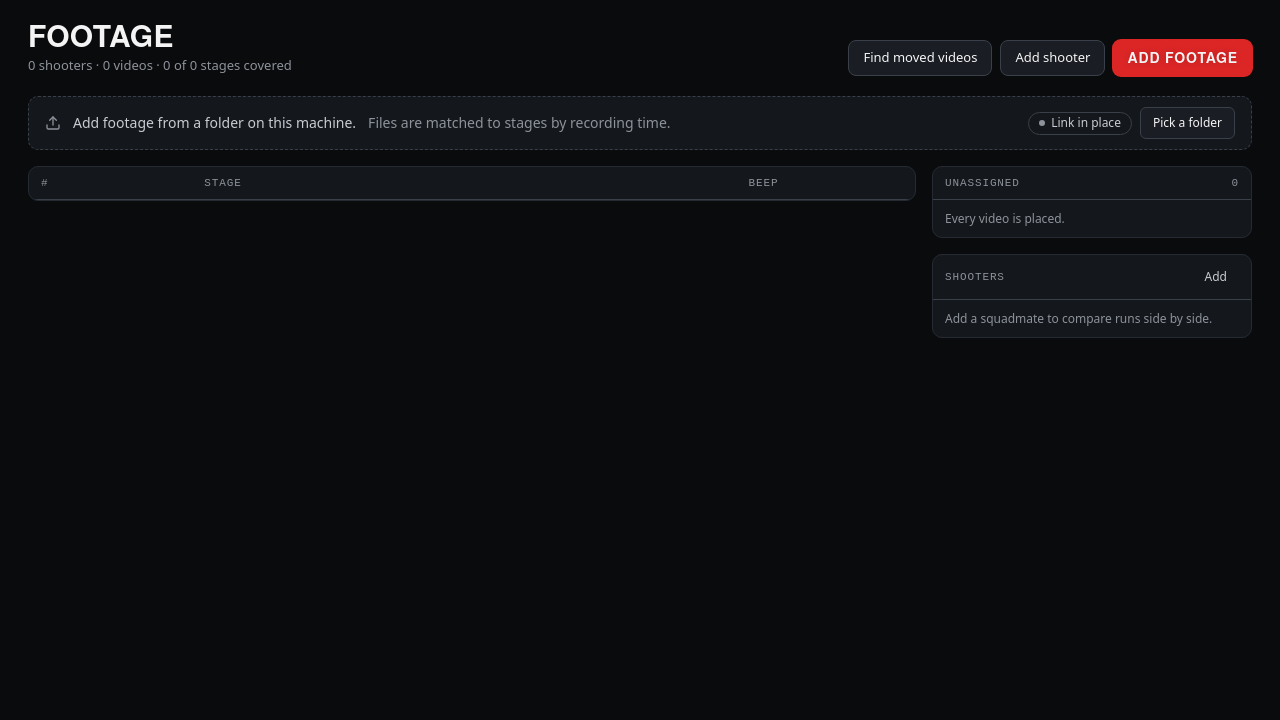
Ingest add-footage (local) › says why each file was skipped, in the picker when nothing imported (#1227)
The width and height of the screenshot is (1280, 720).
Step 1. Click the button "Pick a folder" → coordinates (1187, 122), box [1140,106,1235,138]
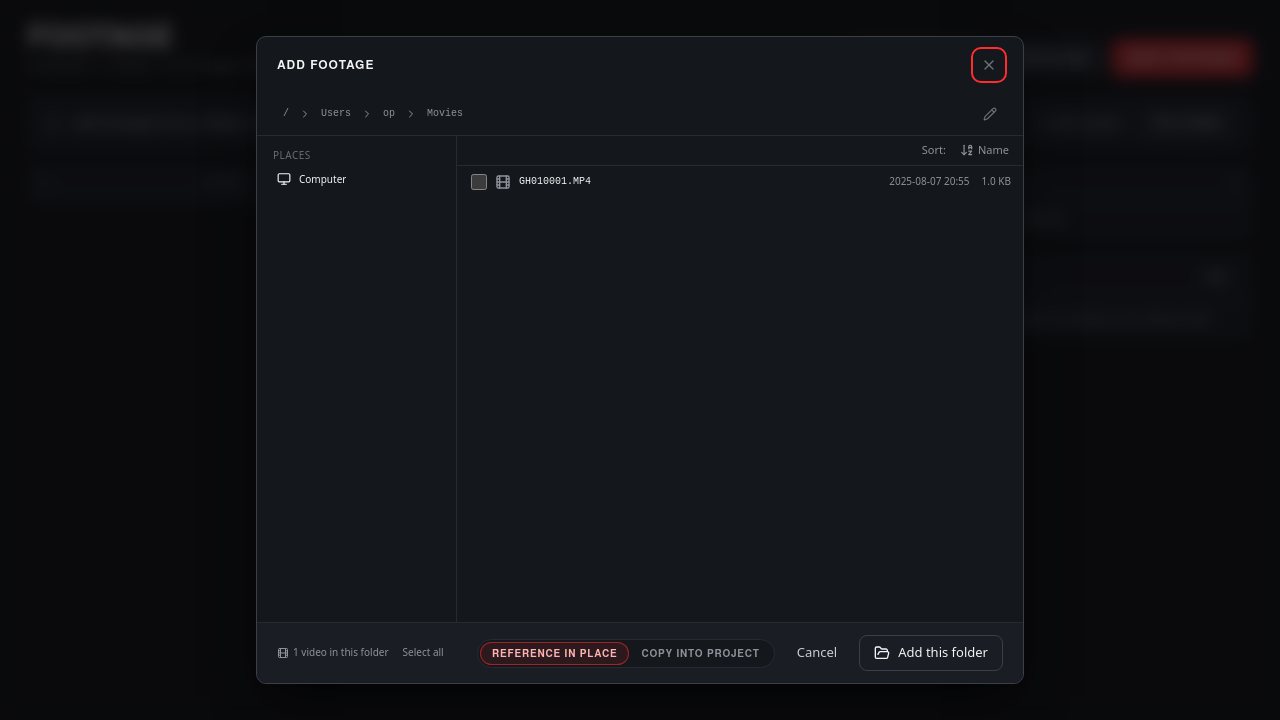
Step 2. Click the button "Add this folder" → coordinates (931, 653), box [859,635,1003,671]
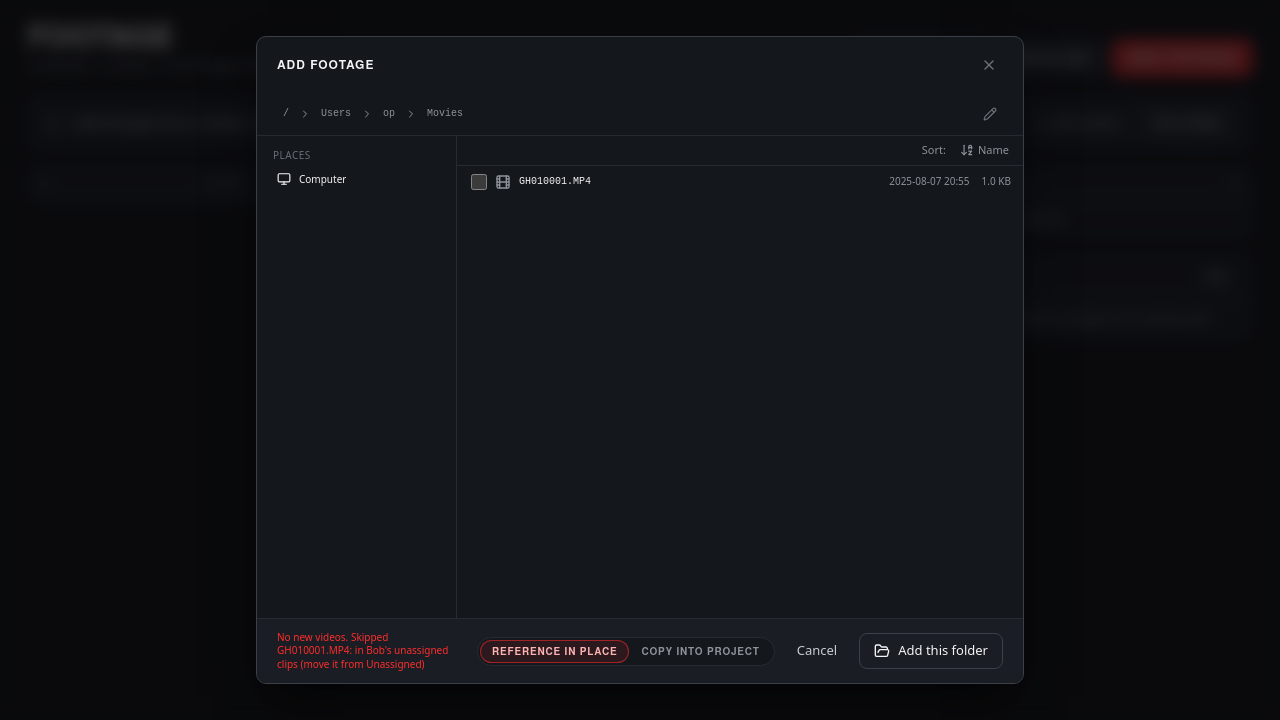
expect the message shows "No new videos. Skipped GH010001.MP4: in Bob's unassigned clips (move it from Unassigned)": met, box [277,630,448,671]
